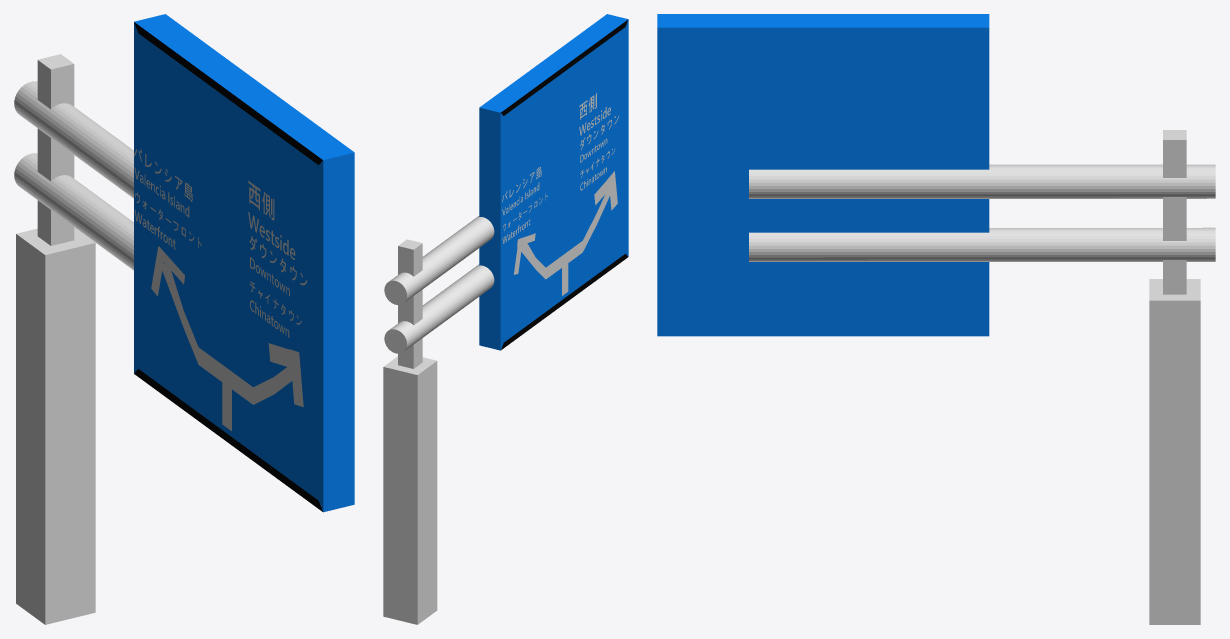
The model's file is japantown_sign_10.fbx.
The picture shows the model from 3 angles, left to right: view 1: azimuth 30°, elevation 25°; view 2: azimuth 150°, elevation 25°; view 3: azimuth 270°, elevation 25°; orthographic projection. The views are drawn at different scales.
Parts seen in each view (by area): view 1: Cube.003, Cube, Cylinder, Cylinder.001, Plane.001, Plane.006, Plane, Plane.005; view 2: Cube.003, Cube, Cylinder.001, Cylinder, Plane.001, Plane.006; view 3: Cube.003, Cube, Cylinder, Cylinder.001.
Boxes of the visible parts, <box> form: Cube.003: <box>134,14,354,512</box>; Cube: <box>16,54,95,624</box>; Cylinder: <box>14,81,133,198</box>; Cylinder.001: <box>14,153,133,270</box>; Plane.001: <box>162,259,222,381</box>; Plane.006: <box>231,367,292,404</box>; Plane: <box>222,365,231,431</box>; Plane.005: <box>268,343,298,369</box>; Cube.003: <box>479,14,628,350</box>; Cube: <box>383,239,437,624</box>; Cylinder.001: <box>384,264,494,353</box>; Cylinder: <box>384,216,494,304</box>; Plane.001: <box>521,239,561,279</box>; Plane.006: <box>567,189,609,263</box>; Cube.003: <box>657,14,989,336</box>; Cube: <box>1149,130,1200,624</box>; Cylinder: <box>749,164,1215,198</box>; Cylinder.001: <box>749,227,1215,261</box>.
Size of the model in its own units: 6.54 by 76.11 by 65.5.
